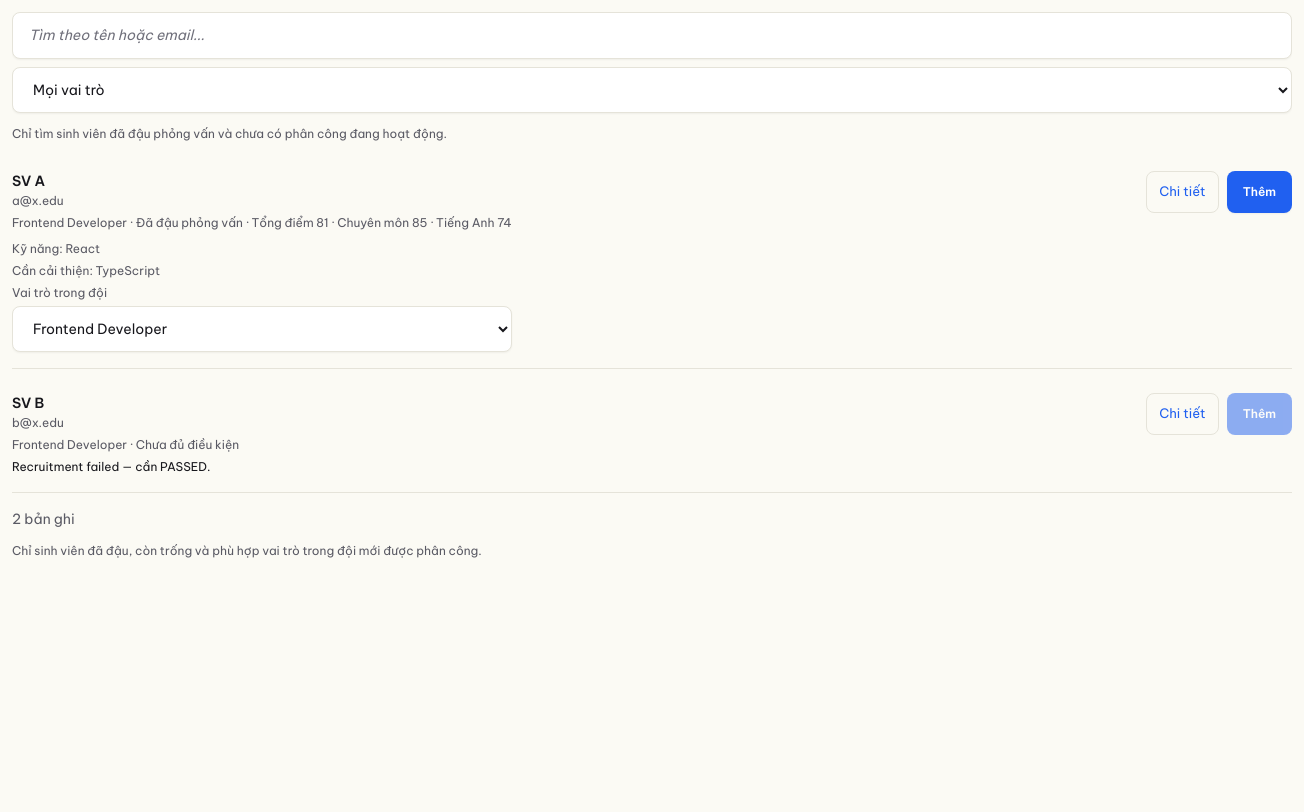
Test: MemberSelector (M4) › keeps the latest candidate detail when responses finish out of order
Expected: the text "SV A" is shown, [12,172,45,190]
Click the button "Chi tiết" in the row of "a@x.edu": x=1182, y=192 [1146,171,1219,213]
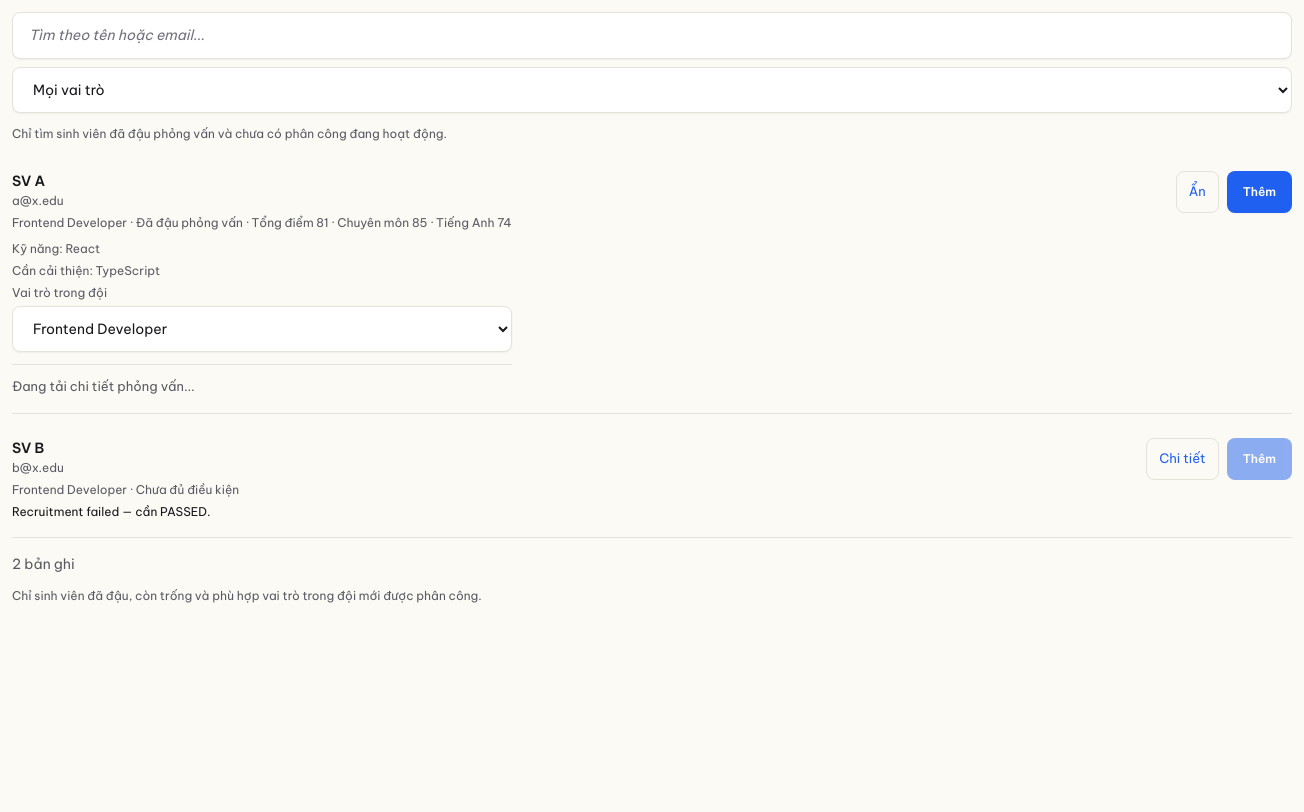
Click the button "Chi tiết": x=1182, y=458 [1146,438,1219,480]
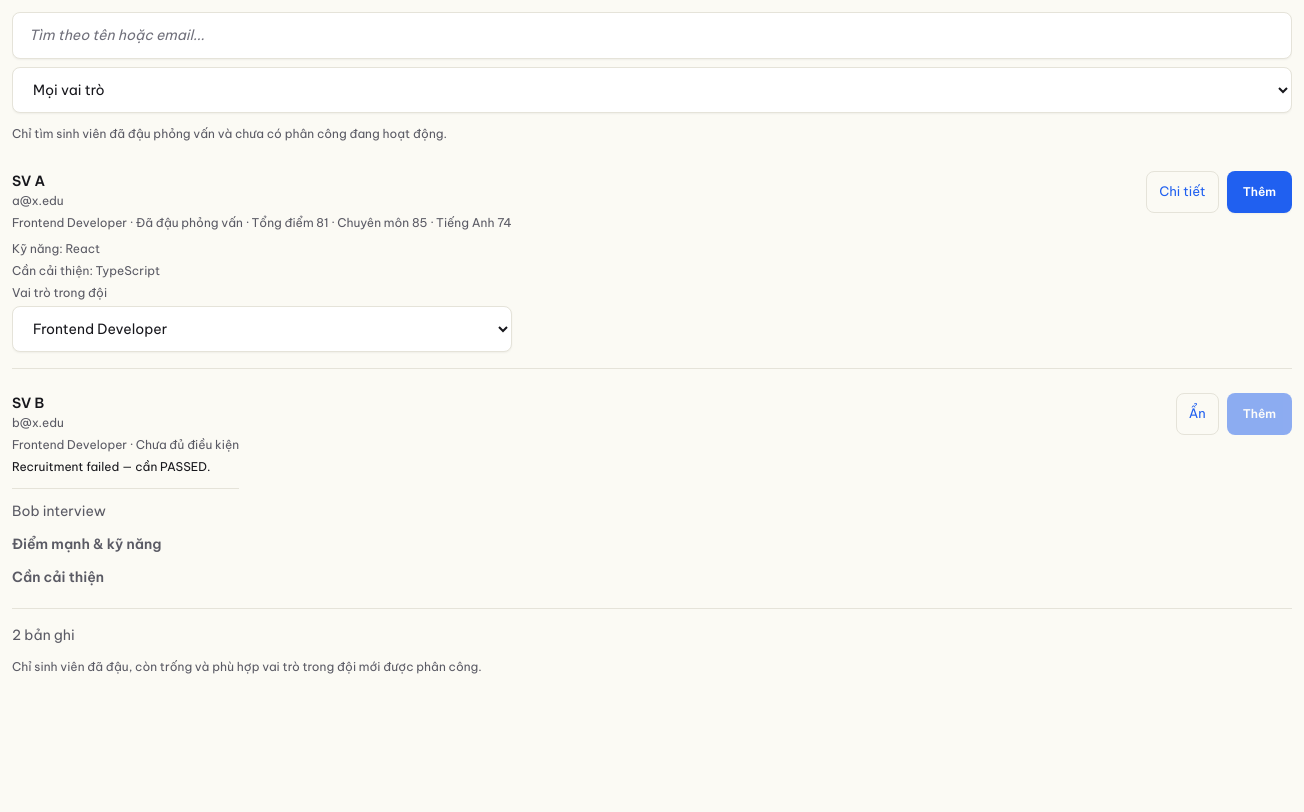
Result: the text "Bob interview" is shown at [12,502,106,520]
